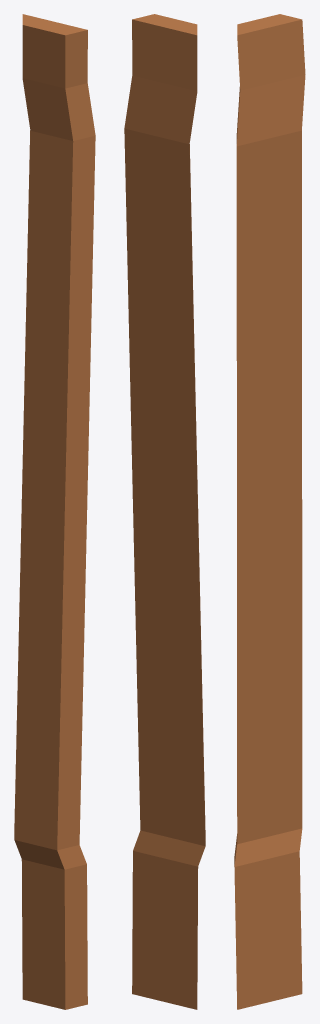
Rendered from lacune.fbx_WoodBeamLong001.fbx.
The picture shows the model from 3 angles, left to right: view 1: azimuth 30°, elevation 25°; view 2: azimuth 210°, elevation 25°; view 3: azimuth 270°, elevation 25°; orthographic projection.
Parts seen in each view (by area): view 1: WoodBeamLong001; view 2: WoodBeamLong001; view 3: WoodBeamLong001.
Boxes of the visible parts, bbox=[...] form: WoodBeamLong001: bbox=[14, 14, 95, 1009]; WoodBeamLong001: bbox=[124, 14, 205, 1009]; WoodBeamLong001: bbox=[234, 14, 305, 1009].
Size of what is drawn, in the model's own units: 15.14 by 237 by 15.62.
